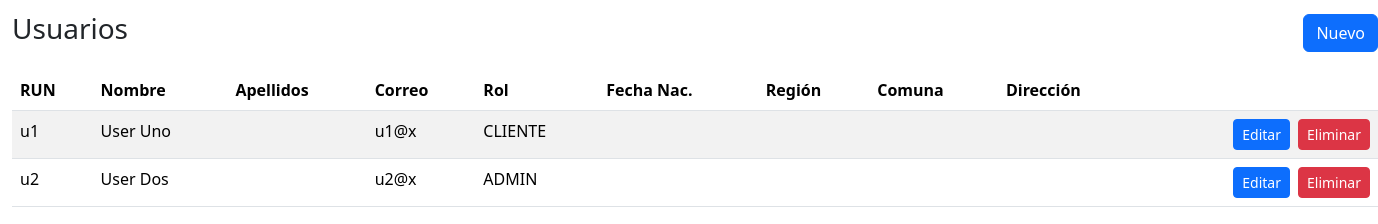
AdminUsuarios › lista usuarios y elimina uno
Expected: the text "User Uno" is shown, x1=93 y1=110 x2=227 y2=158
Expected: the text "User Dos" is shown, x1=93 y1=158 x2=227 y2=206
Click the button "Eliminar" in the row of "User Uno".
click(1334, 134)  # box x1=1298 y1=119 x2=1370 y2=150
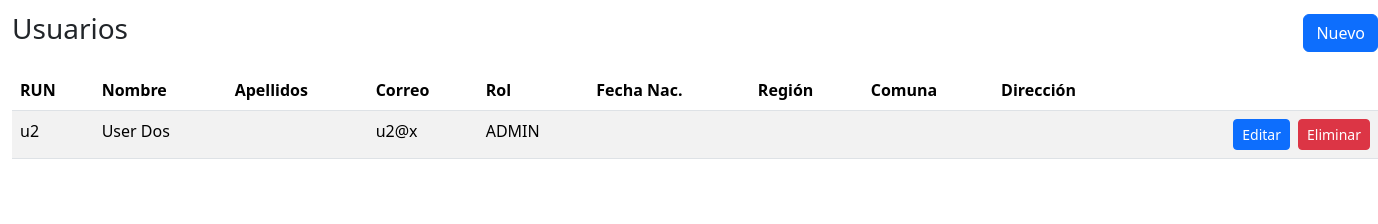
Expected: the text "User Dos" is shown, x1=94 y1=110 x2=227 y2=158
Now the text "User Uno" is gone
